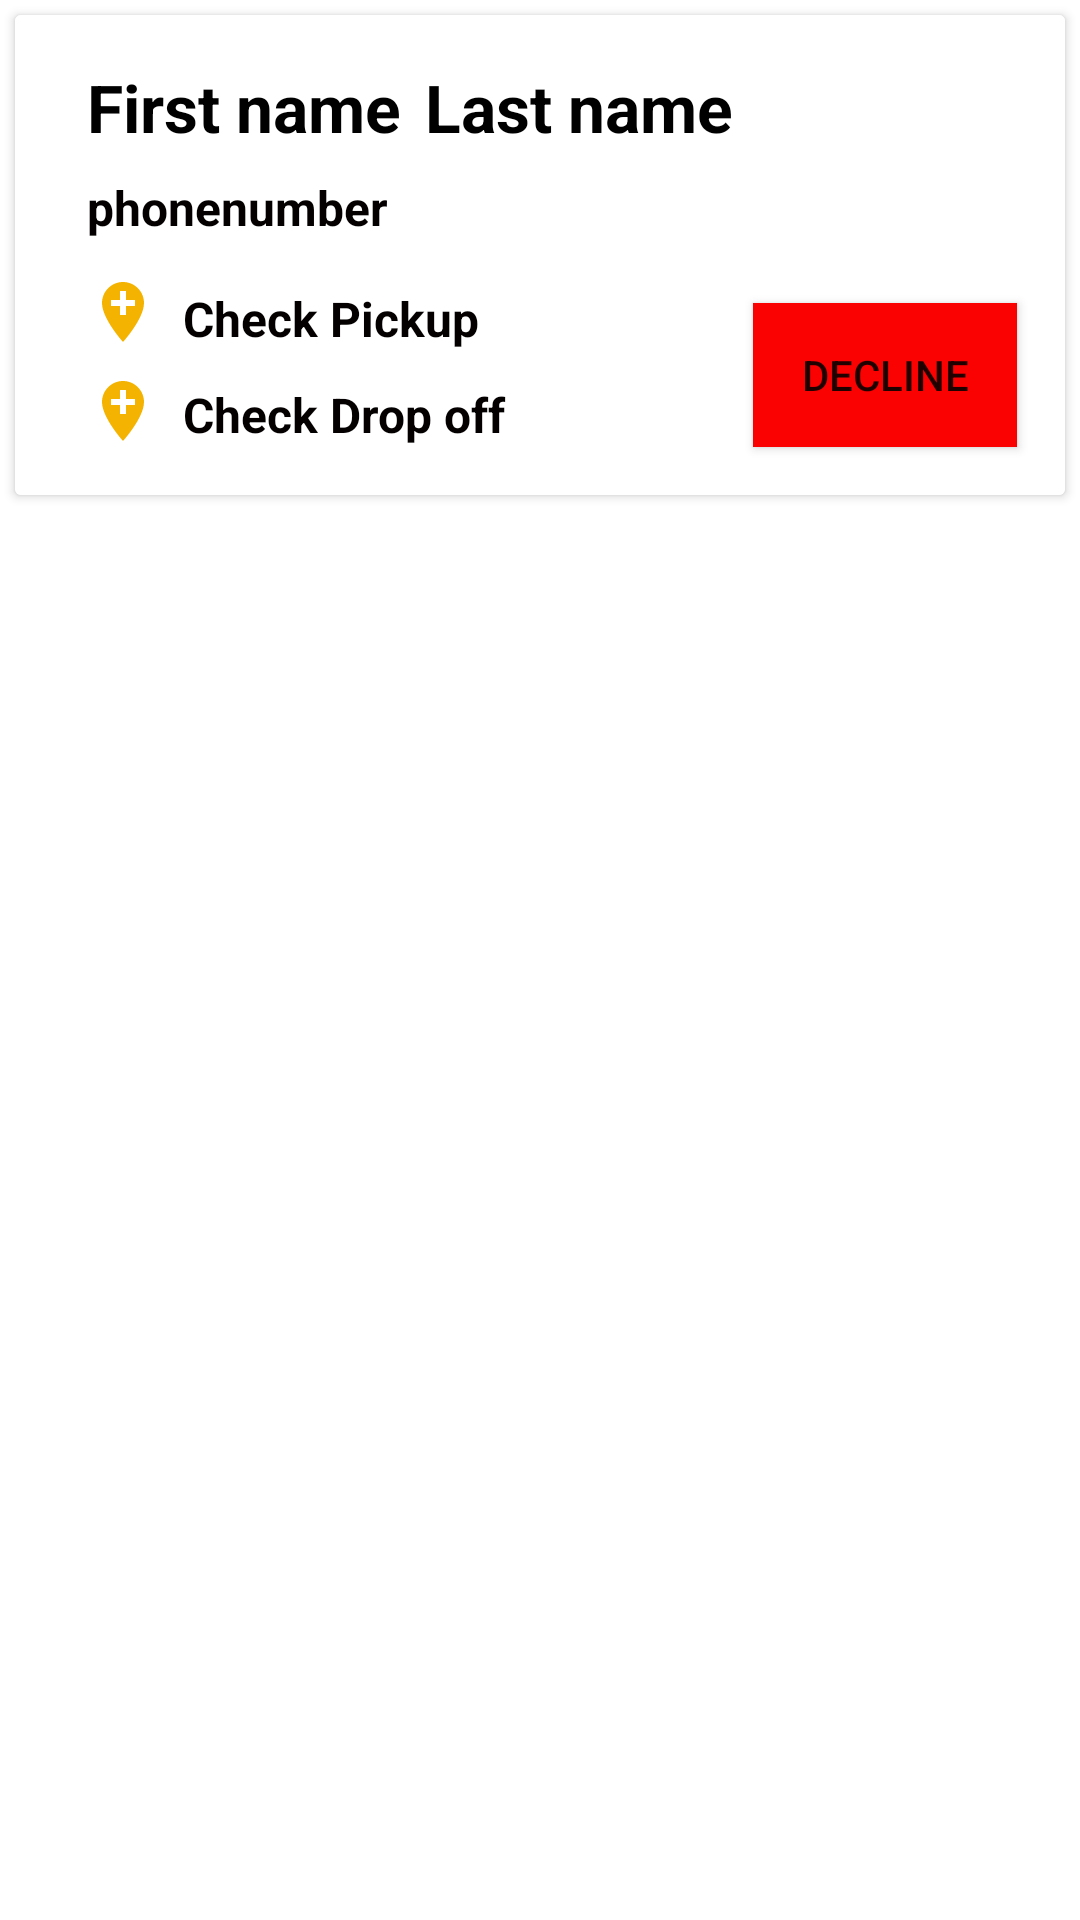

Named icons in this screenshot (1080 × 1920) and their centers, [x,y]:
add location: [123,312], [123,411]
